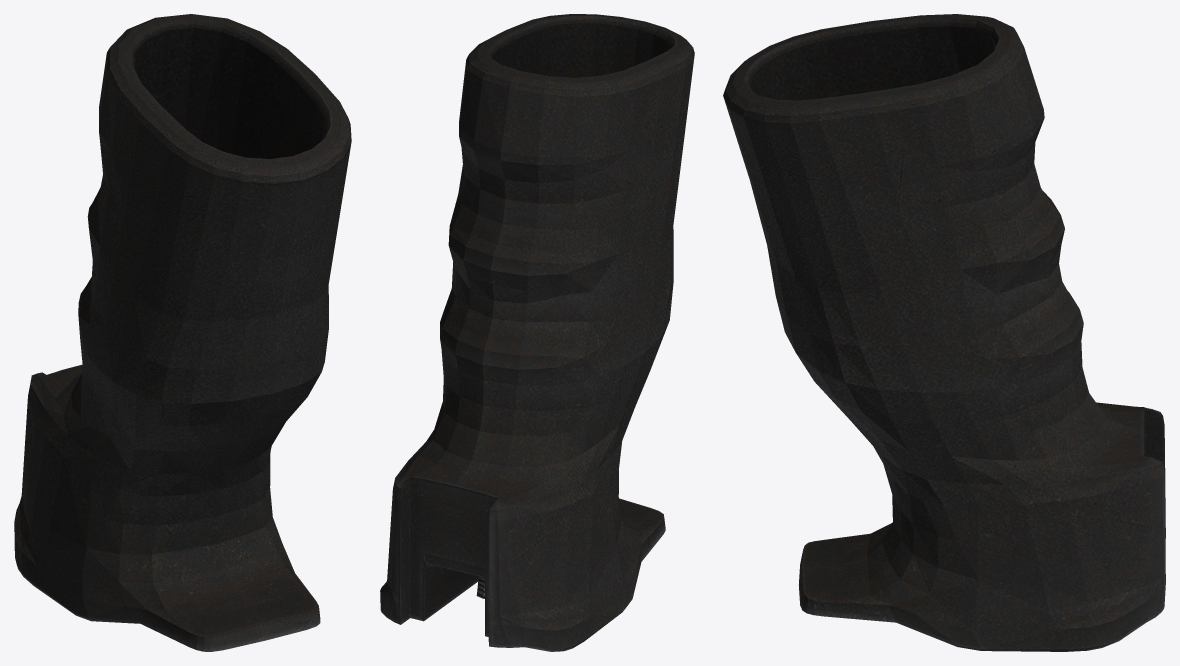
The picture shows the model from 3 angles, left to right: view 1: azimuth 30°, elevation 25°; view 2: azimuth 150°, elevation 25°; view 3: azimuth 270°, elevation 25°; orthographic projection. The views are drawn at different scales.
Parts seen in each view (by area): view 1: TW_5df38a5fb74cd90030650cb6_PZ_Import; view 2: TW_5df38a5fb74cd90030650cb6_PZ_Import; view 3: TW_5df38a5fb74cd90030650cb6_PZ_Import.
Boxes of the visible parts, x1,y1,x2,y2 form: TW_5df38a5fb74cd90030650cb6_PZ_Import: (14, 14, 351, 651); TW_5df38a5fb74cd90030650cb6_PZ_Import: (380, 14, 694, 651); TW_5df38a5fb74cd90030650cb6_PZ_Import: (723, 14, 1165, 651).
Bounding box in the file's own units: 0.0232 × 0.044 × 0.0619.
1 material, 1 textured.
